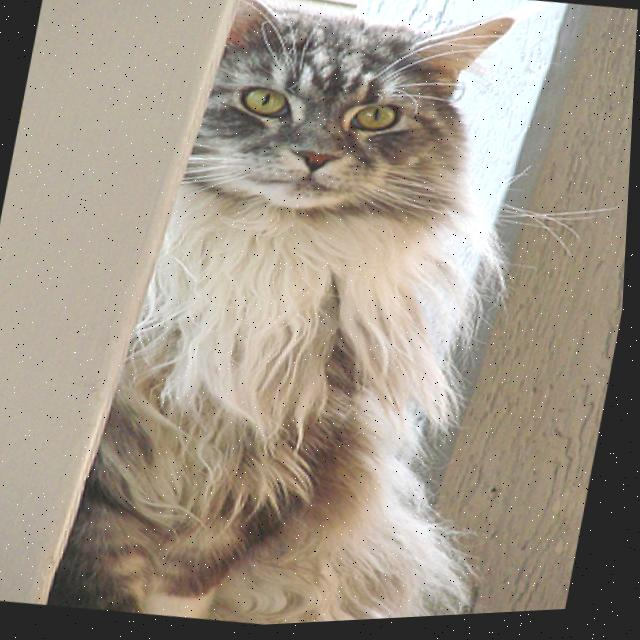Maine Coon: (64, 0, 586, 636)
